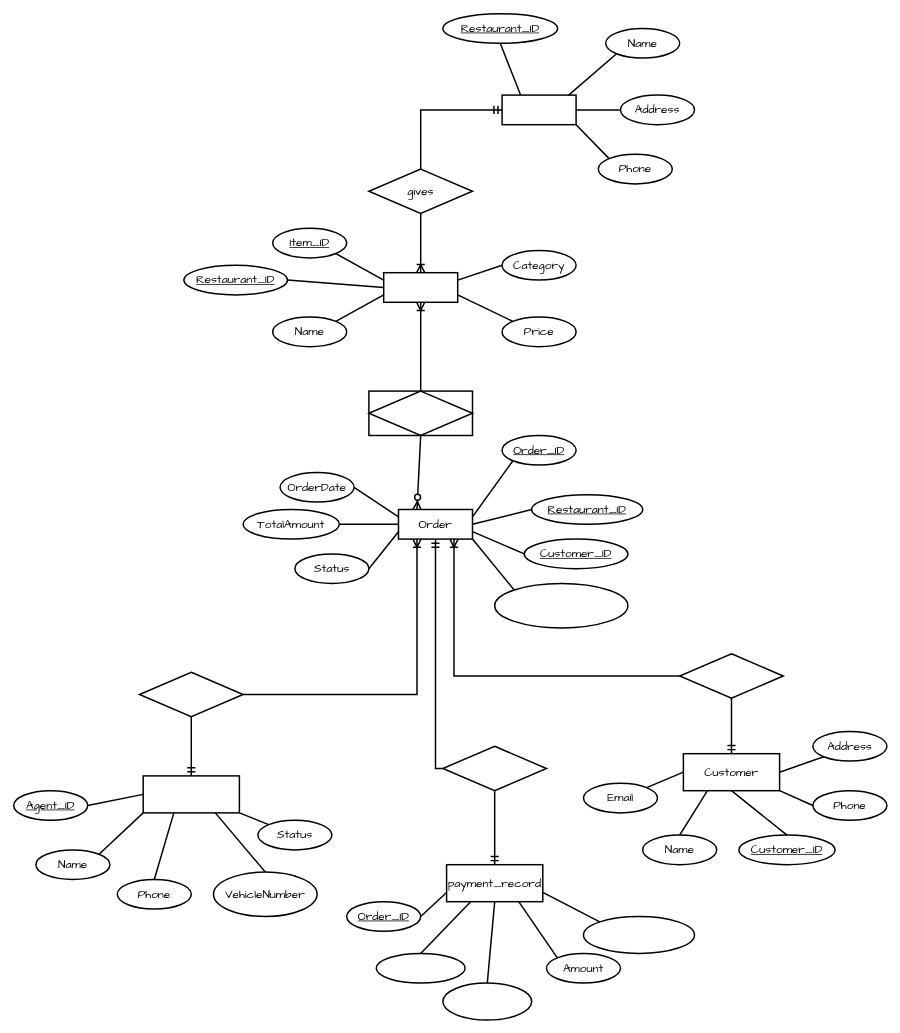
This 900x1033 diagram has some shape labels left out. The shapes that lost their labels are listed below. From the top down, each one's box as (x1, y1, x2, y2) in pixels, then its label:
(501, 94, 576, 125): Restaurant
(383, 272, 458, 303): Menu item
(368, 390, 473, 436): Contain
(494, 582, 628, 628): Delivery_Agent_ID
(138, 671, 243, 717): delivers
(679, 653, 784, 699): orders
(442, 745, 547, 791): have
(142, 775, 240, 813): Delivery agent
(582, 915, 695, 954): PaymentMethod
(375, 952, 465, 983): Payment_ID
(442, 982, 532, 1020): PaymentDate
